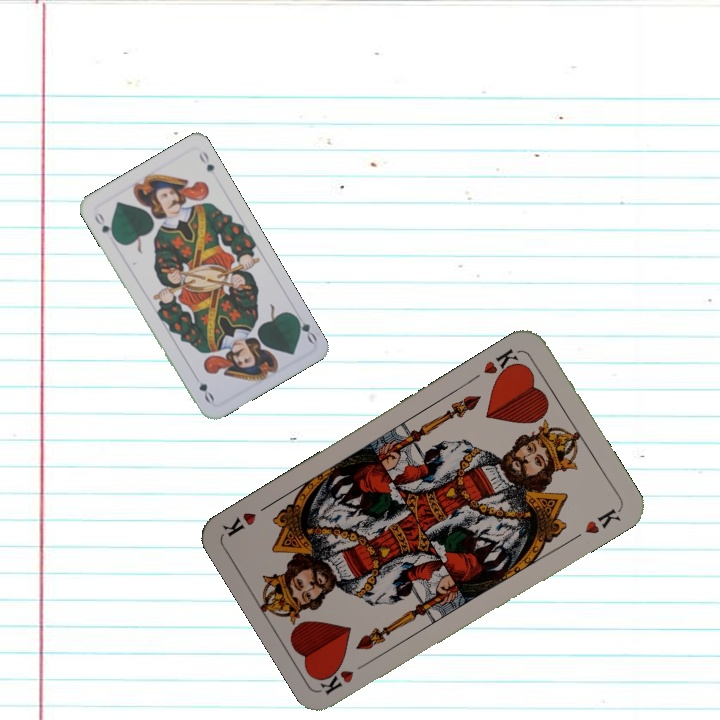GO: (289, 310, 320, 346), (90, 208, 118, 243)
HK: (317, 656, 373, 698), (479, 344, 524, 383)
